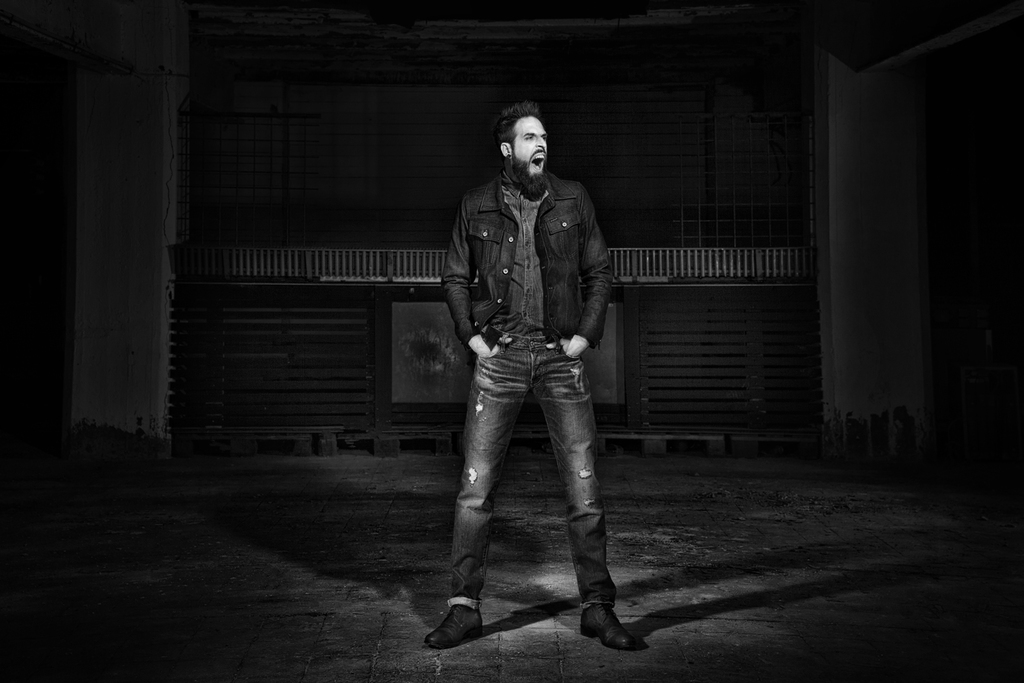Footwear: (582, 591, 638, 660), (425, 603, 483, 651)
